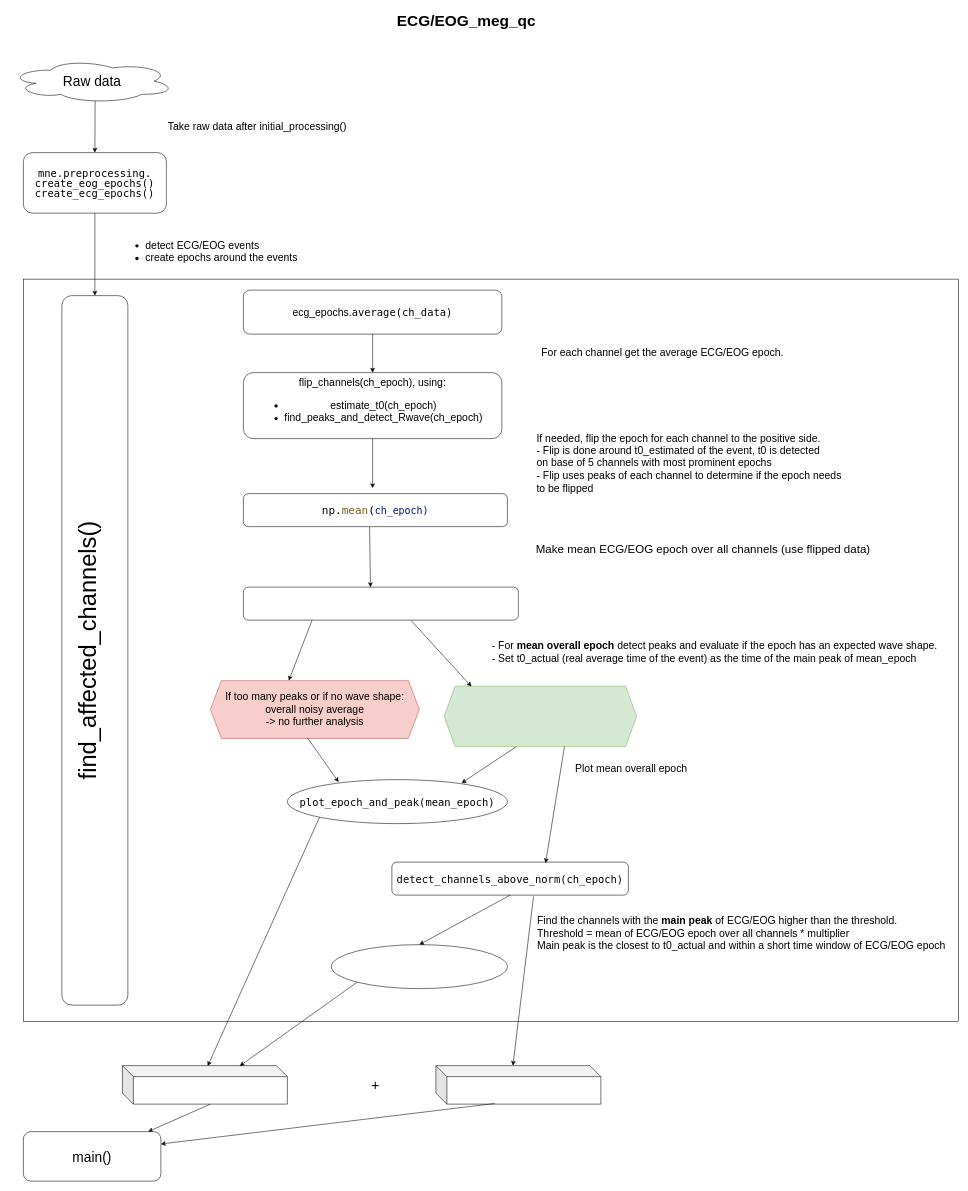
Some shapes in this 968 by 1191 pixel diagram are drawn without their labels. Here are the shapes that lost their labels. From the top down, the centre of each, then its label:
(x=380, y=603): find_peaks_and_detect_Rwave(mean_epoch)
(x=540, y=716): If few peaks and wave shape: good average -> continue
(x=419, y=966): plot_affected_channels(ch_epoch)
(x=204, y=1084): QC_derivative_ECG/EOG (plots)
(x=518, y=1084): QC_derivative_ECG/EOG (affected_ch)
